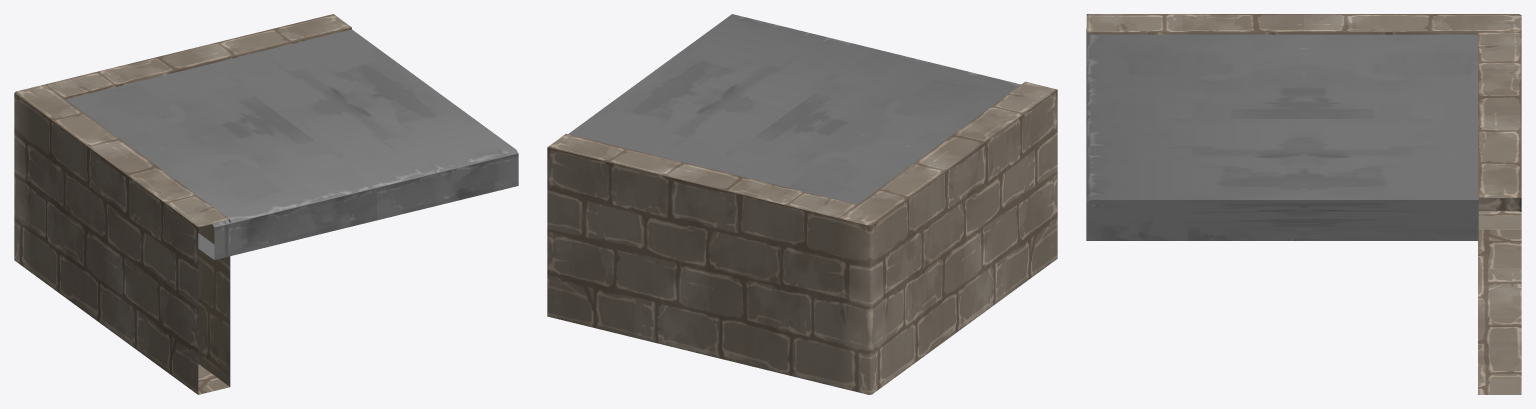
Rendered from Stairs_Exterior_Platform45Clean.gltf.
3 renders of one model, left to right at view 1: azimuth 30°, elevation 25°; view 2: azimuth 150°, elevation 25°; view 3: azimuth 270°, elevation 25°, orthographic. The views are drawn at different scales.
Parts seen in each view (by area): view 1: Stairs_Exterior_Platform45Clean; view 2: Stairs_Exterior_Platform45Clean; view 3: Stairs_Exterior_Platform45Clean.
Part boxes in pixels (x1=…): Stairs_Exterior_Platform45Clean: x1=14, y1=14, x2=518, y2=394; Stairs_Exterior_Platform45Clean: x1=547, y1=14, x2=1057, y2=394; Stairs_Exterior_Platform45Clean: x1=1086, y1=14, x2=1521, y2=394.
Bounding box in the file's own units: 2 × 1 × 2.
2 materials, 2 textured.
